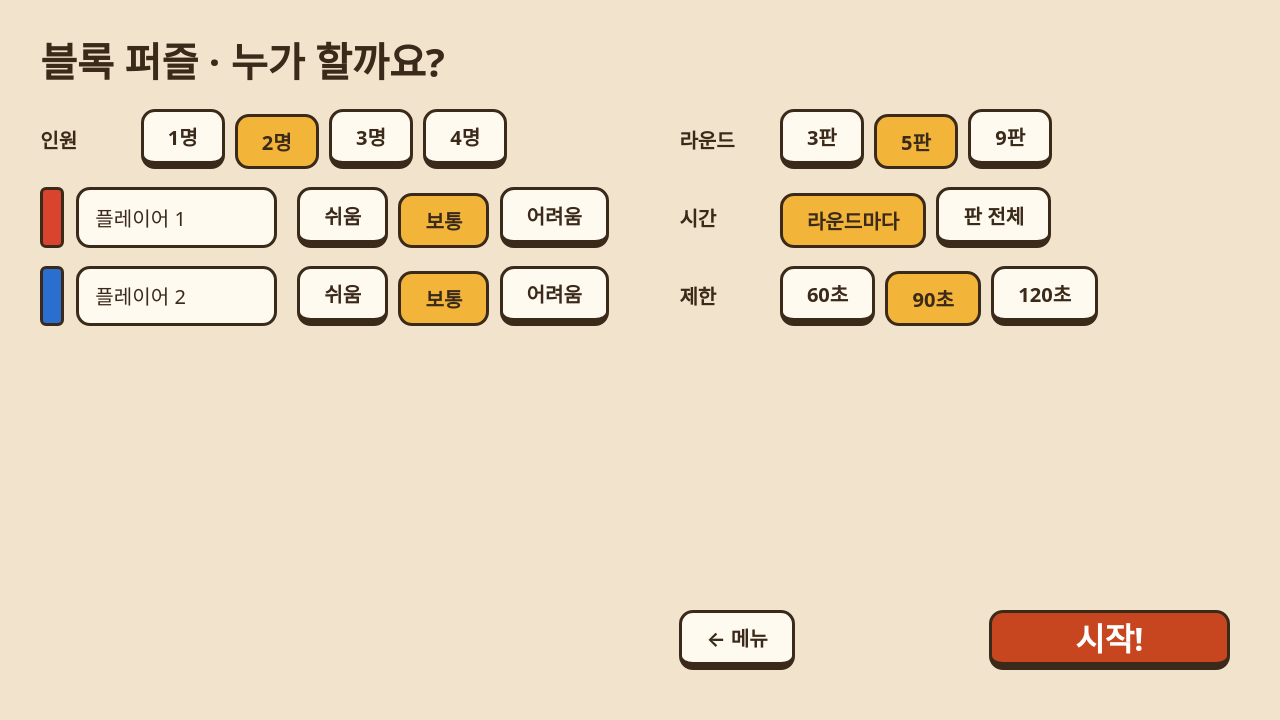
Test: PlayerSetup › 판 전체 시간을 10초씩 늘리고 줄인다
Click the button "판 전체" at (994, 218), box x1=936 y1=188 x2=1051 y2=248
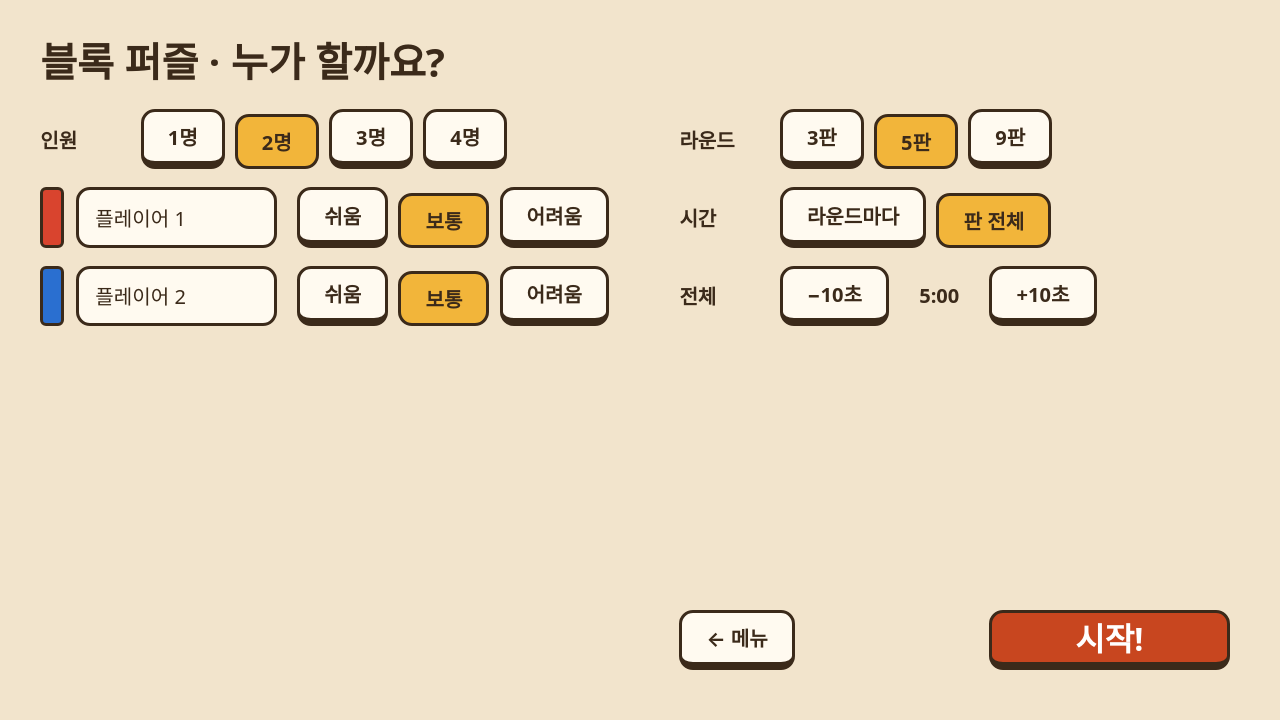
Click the button named "10초 늘리기" at (1043, 296), box x1=989 y1=266 x2=1096 y2=326
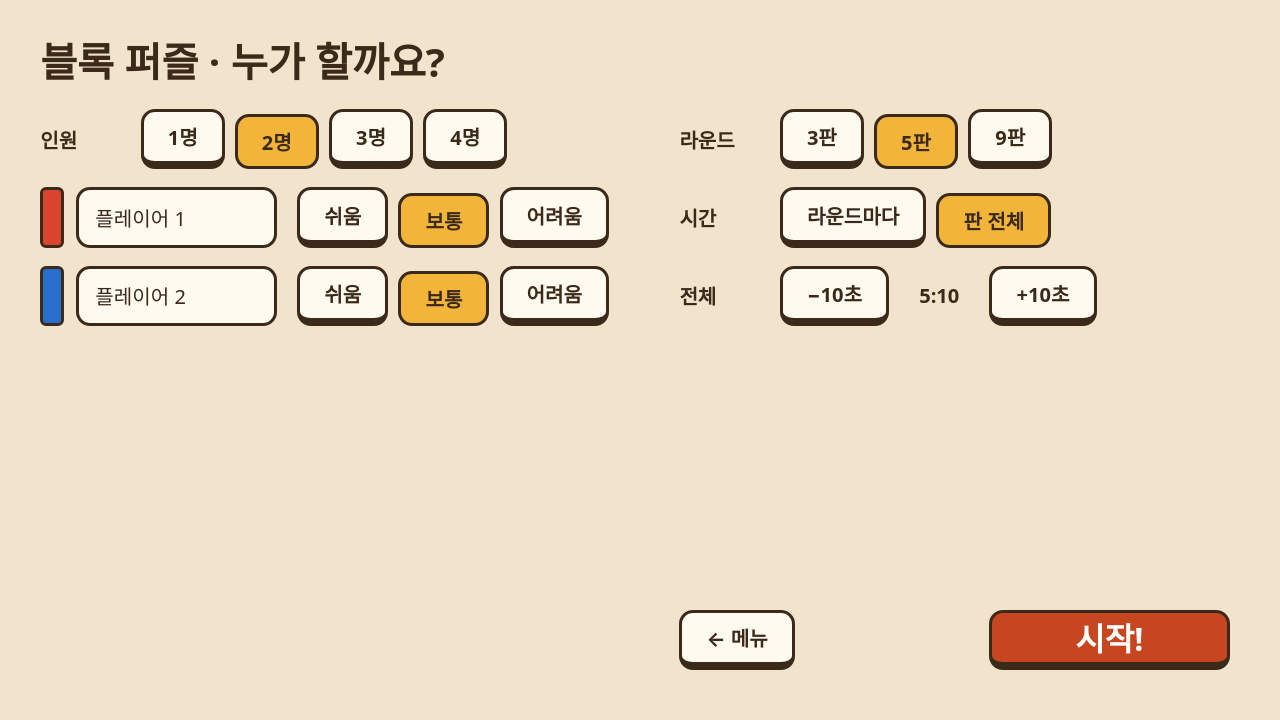
expect the text with test id "game-time" reads "5:10": met, box x1=919 y1=282 x2=959 y2=309
Click the button named "10초 줄이기" at (834, 296), box x1=780 y1=266 x2=889 y2=326
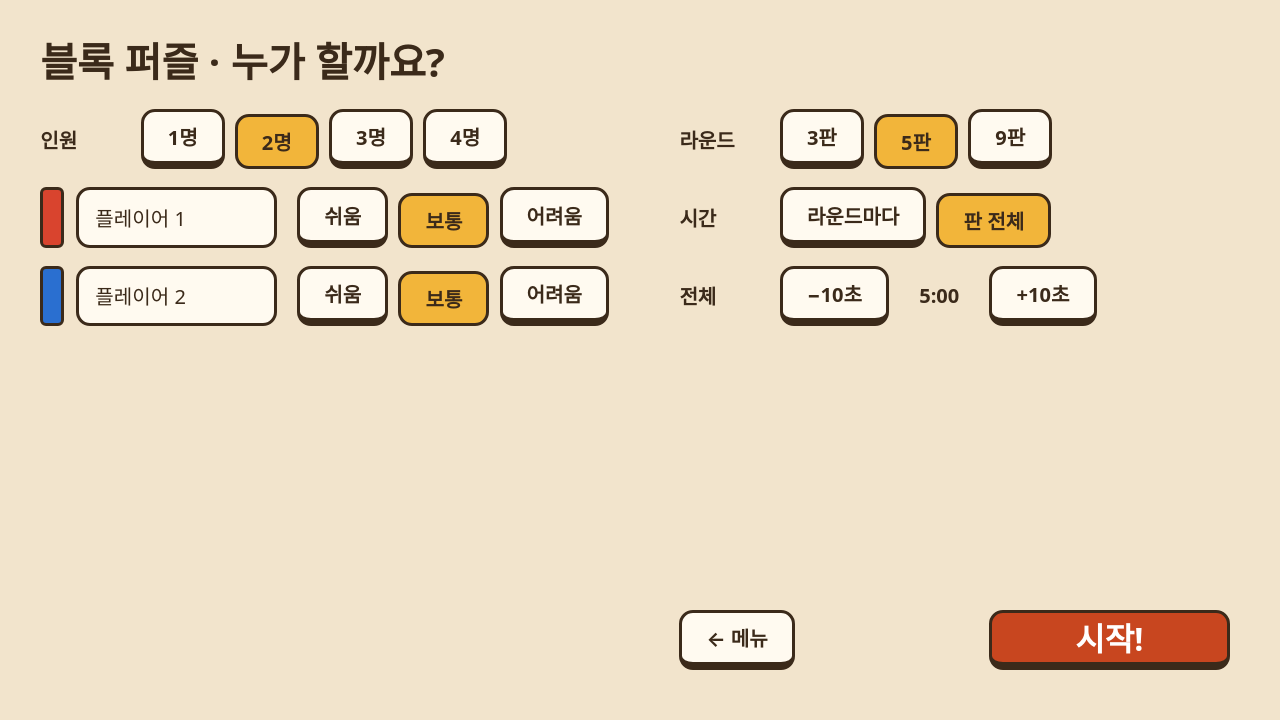
Click the button named "10초 줄이기" at (834, 296), box x1=780 y1=266 x2=889 y2=326
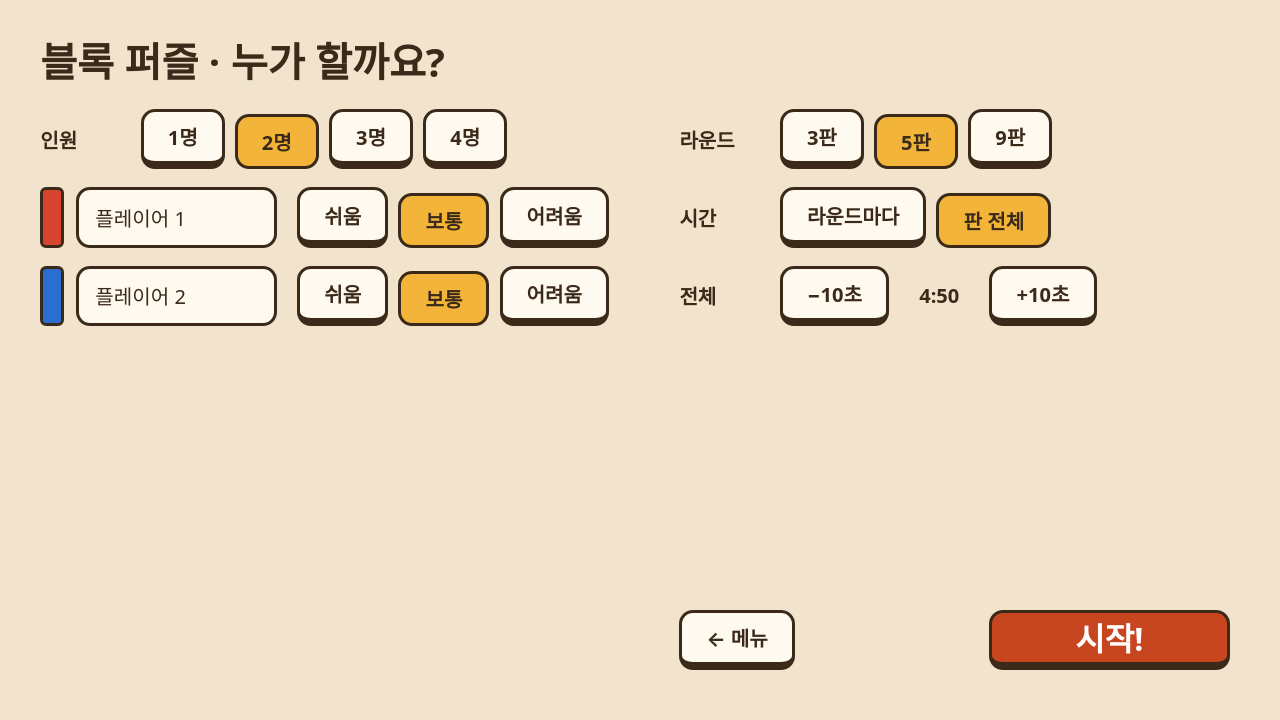
expect the text with test id "game-time" reads "4:50": met, box x1=919 y1=282 x2=959 y2=309
